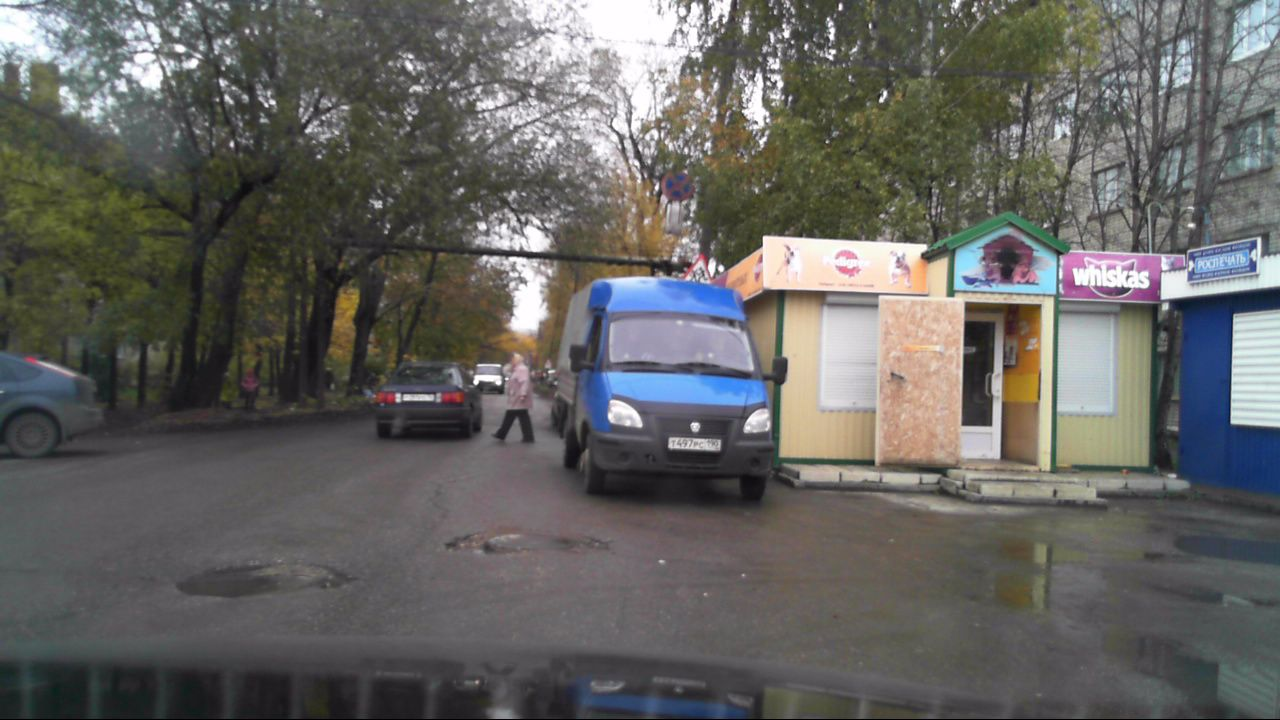No Parking: (661, 171, 694, 203)
